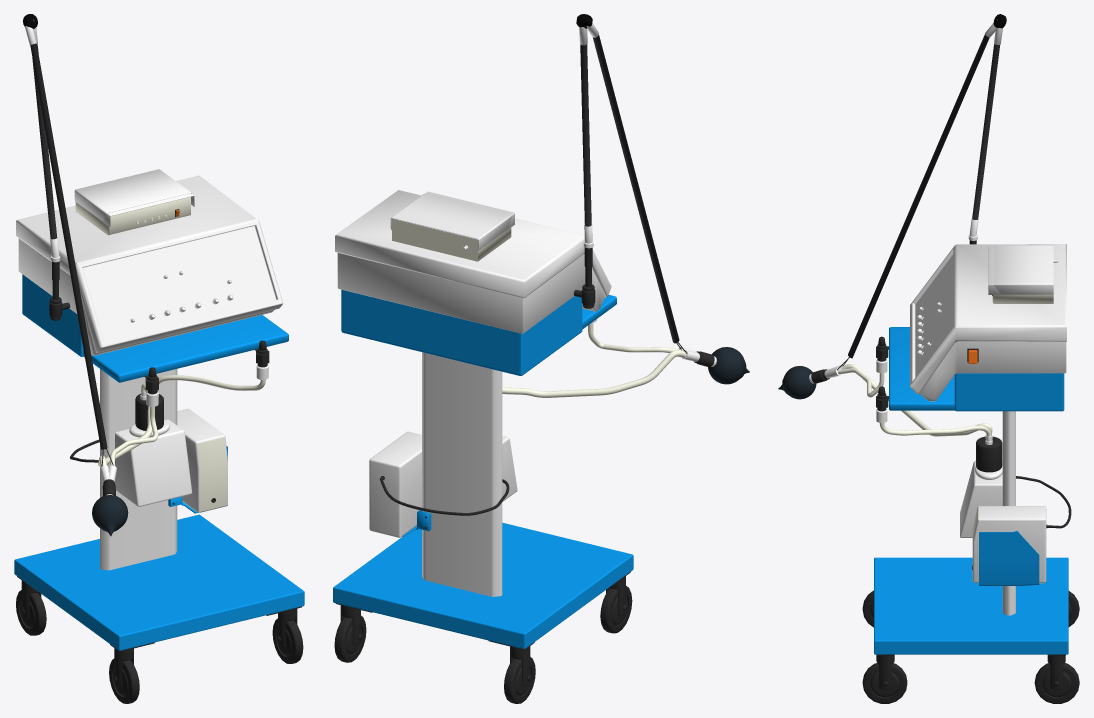
File: medical-device-2.FBX
3 views of the same model, side by side, from view 1: azimuth 30°, elevation 25°; view 2: azimuth 150°, elevation 25°; view 3: azimuth 270°, elevation 25° (orthographic). The views are drawn at different scales.
Visible parts, largest first — view 1: Isk.dihanie; view 2: Isk.dihanie; view 3: Isk.dihanie.
Boxes of the visible parts, <box> form: Isk.dihanie: <box>14,14,304,703</box>; Isk.dihanie: <box>333,14,749,703</box>; Isk.dihanie: <box>778,14,1079,703</box>.
Size of the model in its own units: 653 by 1586 by 722.
